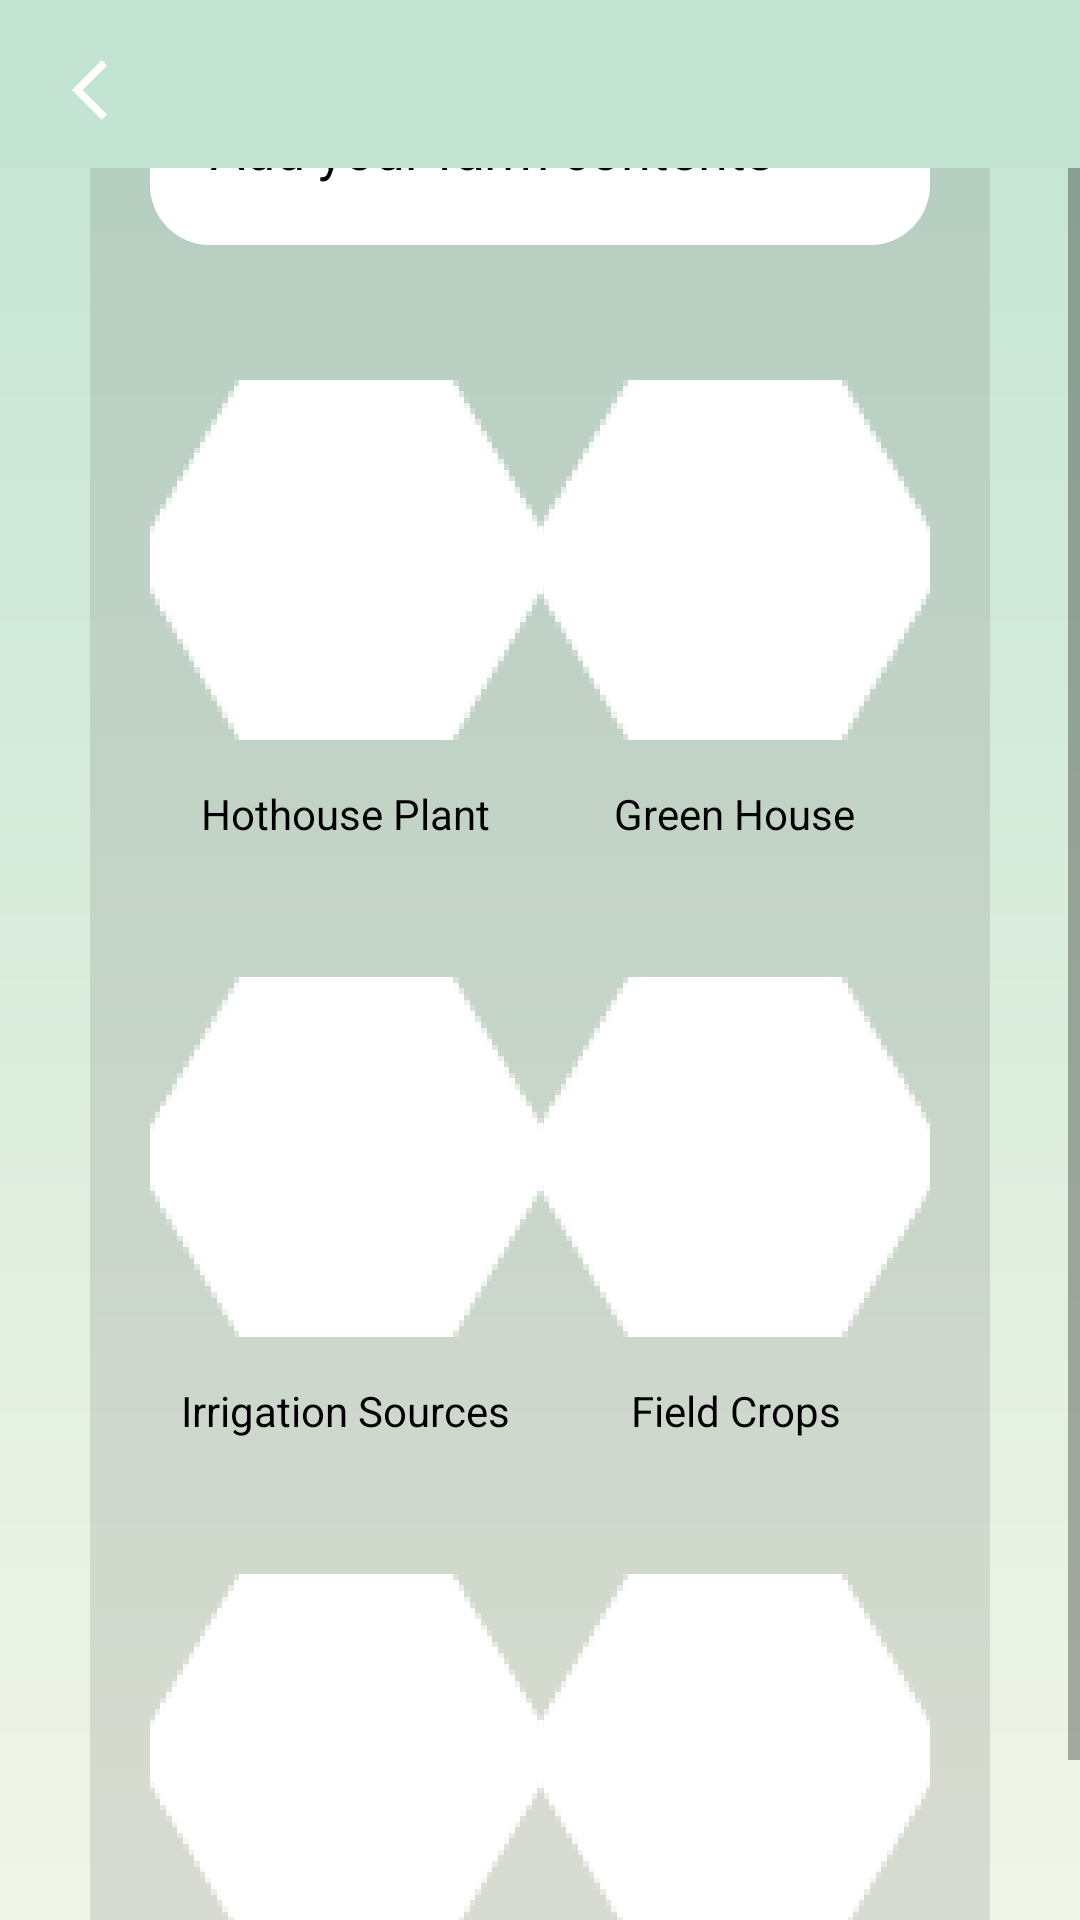

Screen size 1080px×1920px. Icon name, then its center in pixels as (x,y):
backbtn: (89,90)
